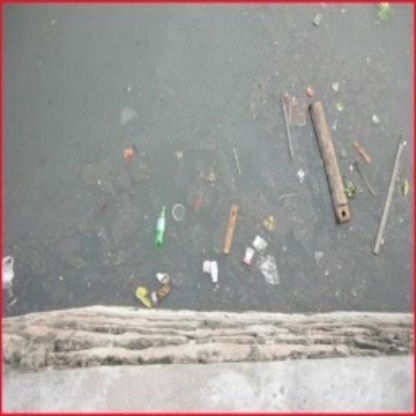bottle: (151, 204, 172, 253)
branch: (305, 102, 355, 225)
